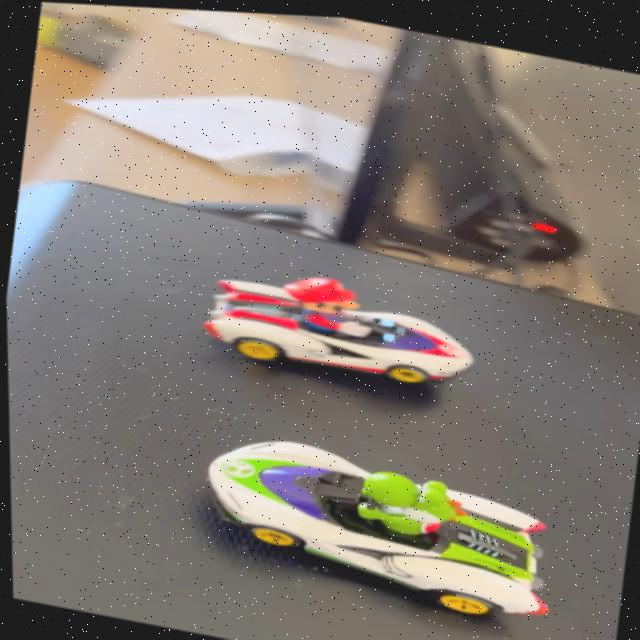mario: (188, 252, 493, 402)
yoshi: (186, 412, 578, 628)
